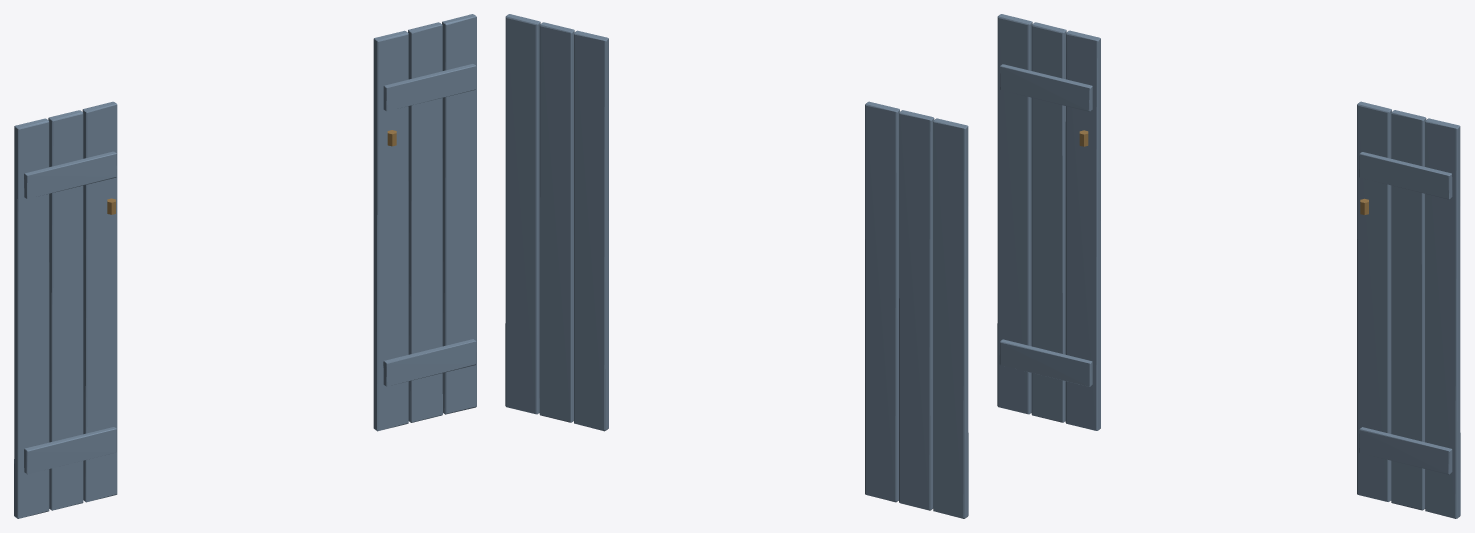
The model's file is SM_Kit_Shutters_Board_LOD1.glb.
3 renders of one model, left to right at view 1: azimuth 30°, elevation 25°; view 2: azimuth 150°, elevation 25°; view 3: azimuth 330°, elevation 25°, orthographic.
Parts seen in each view (by area): view 1: SM_Kit_Shutters_Board_LOD1; view 2: SM_Kit_Shutters_Board_LOD1; view 3: SM_Kit_Shutters_Board_LOD1.
Boxes of the visible parts, x1,y1,x2,y2 form: SM_Kit_Shutters_Board_LOD1: (14, 14, 476, 518); SM_Kit_Shutters_Board_LOD1: (505, 14, 968, 518); SM_Kit_Shutters_Board_LOD1: (997, 14, 1460, 518).
Size of the model in its own units: 1.57 by 1.28 by 0.058.
